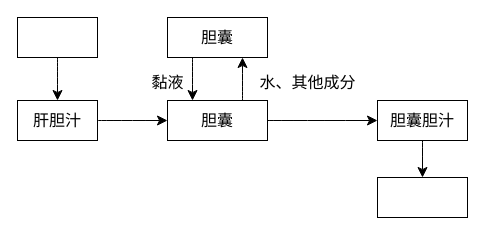
This 485x235 diagram has some shape labels left out. Each missing label, with the centre of its shape:
"十二指肠" goes at [422,197].
"肝细胞" goes at [57,37].
